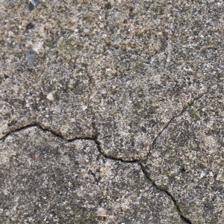Crack: (41, 66, 152, 148), (136, 33, 224, 109)
